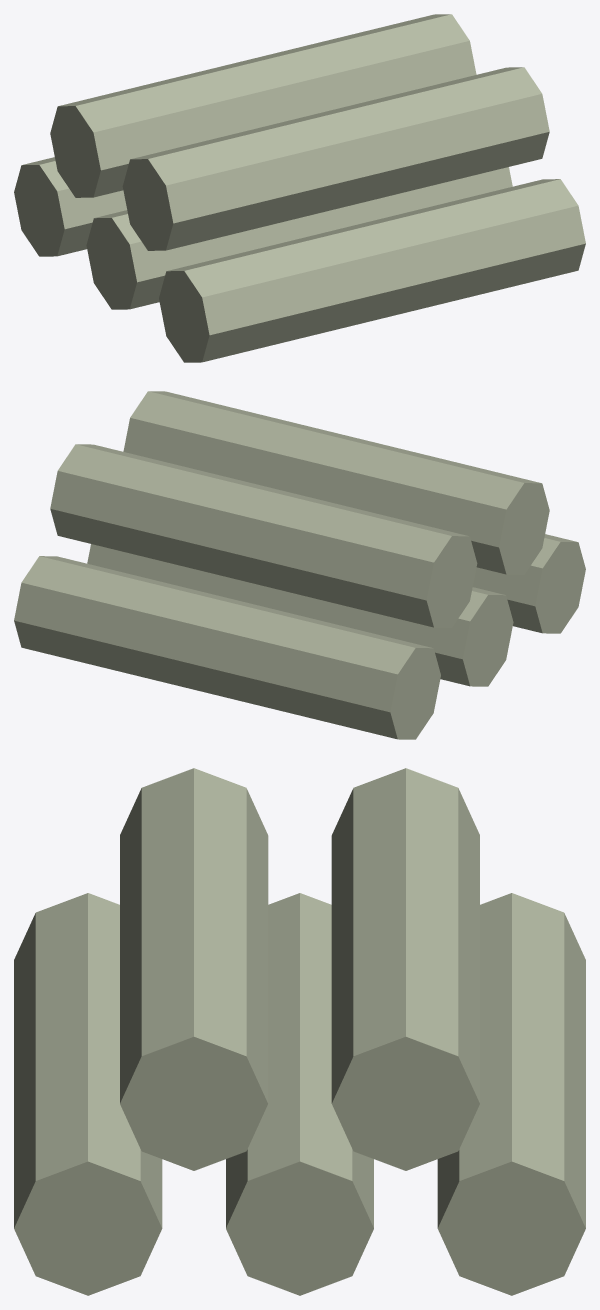
Rendered from scroll-pile.glb.
The picture shows the model from 3 angles, top to bottom: view 1: azimuth 30°, elevation 25°; view 2: azimuth 150°, elevation 25°; view 3: azimuth 270°, elevation 25°; orthographic projection. The views are drawn at different scales.
Parts seen in each view (by area): view 1: scroll-pile__body; view 2: scroll-pile__body; view 3: scroll-pile__body.
Part boxes in pixels (x1,y1,x2,y2): scroll-pile__body: (14, 14, 585, 362); scroll-pile__body: (14, 391, 585, 739); scroll-pile__body: (14, 768, 585, 1295).
Bounding box in the file's own units: 0.6 × 0.27 × 0.54.
